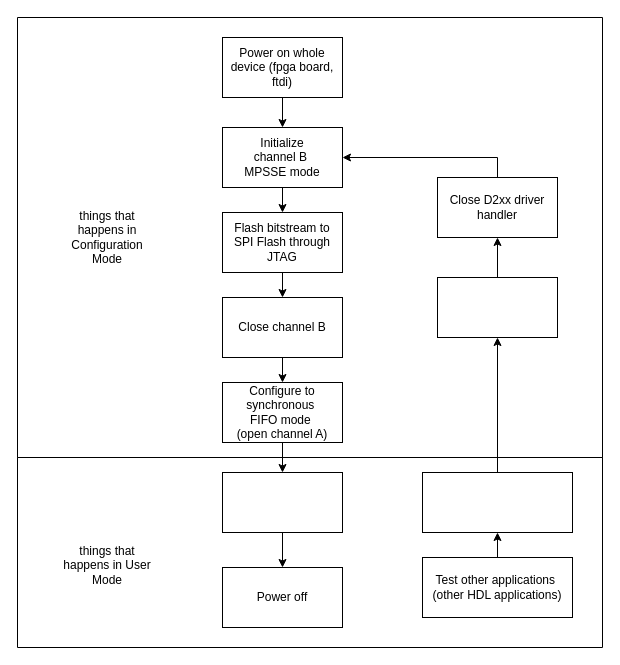
The diagram is 620 pixels wide and 665 high, and some of its shapes have lost their labels. Here are the shapes that lost their labels. From the top down, the centre of each, then its label:
At [497,307]: "Reset bit mode".
At [282,502]: "Stream data".
At [497,502]: "Stop streaming data (former HDL application must not have input to the D0-D7)".
